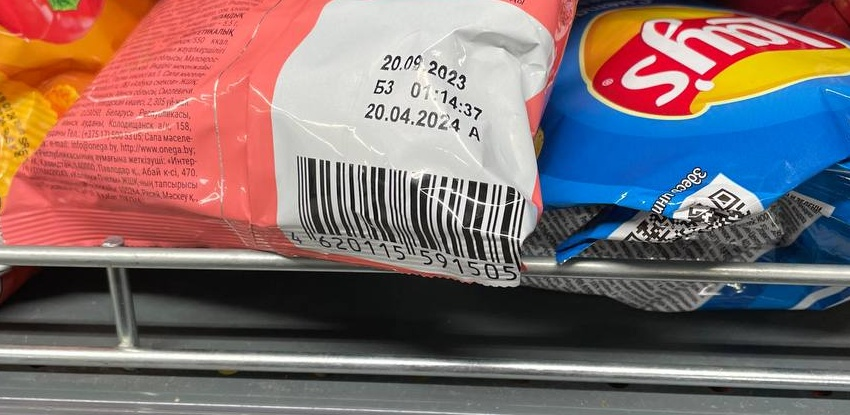1d: (296, 153, 526, 264)
